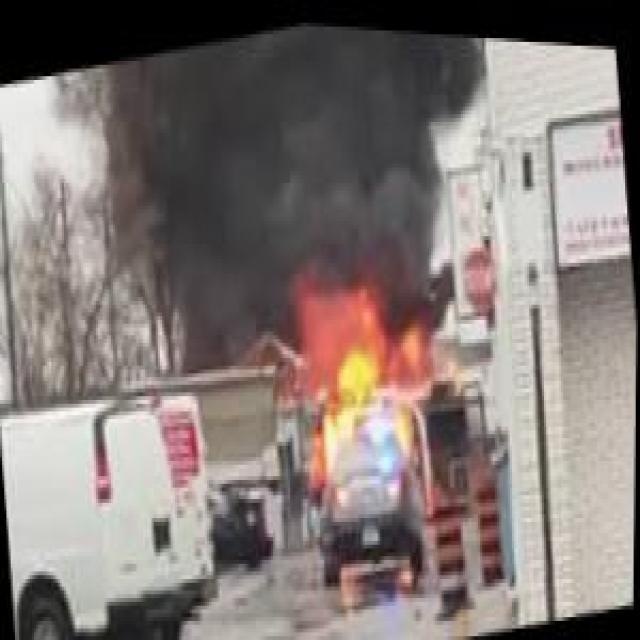Fire: (262, 228, 448, 530)
Smoke: (66, 4, 501, 343)
